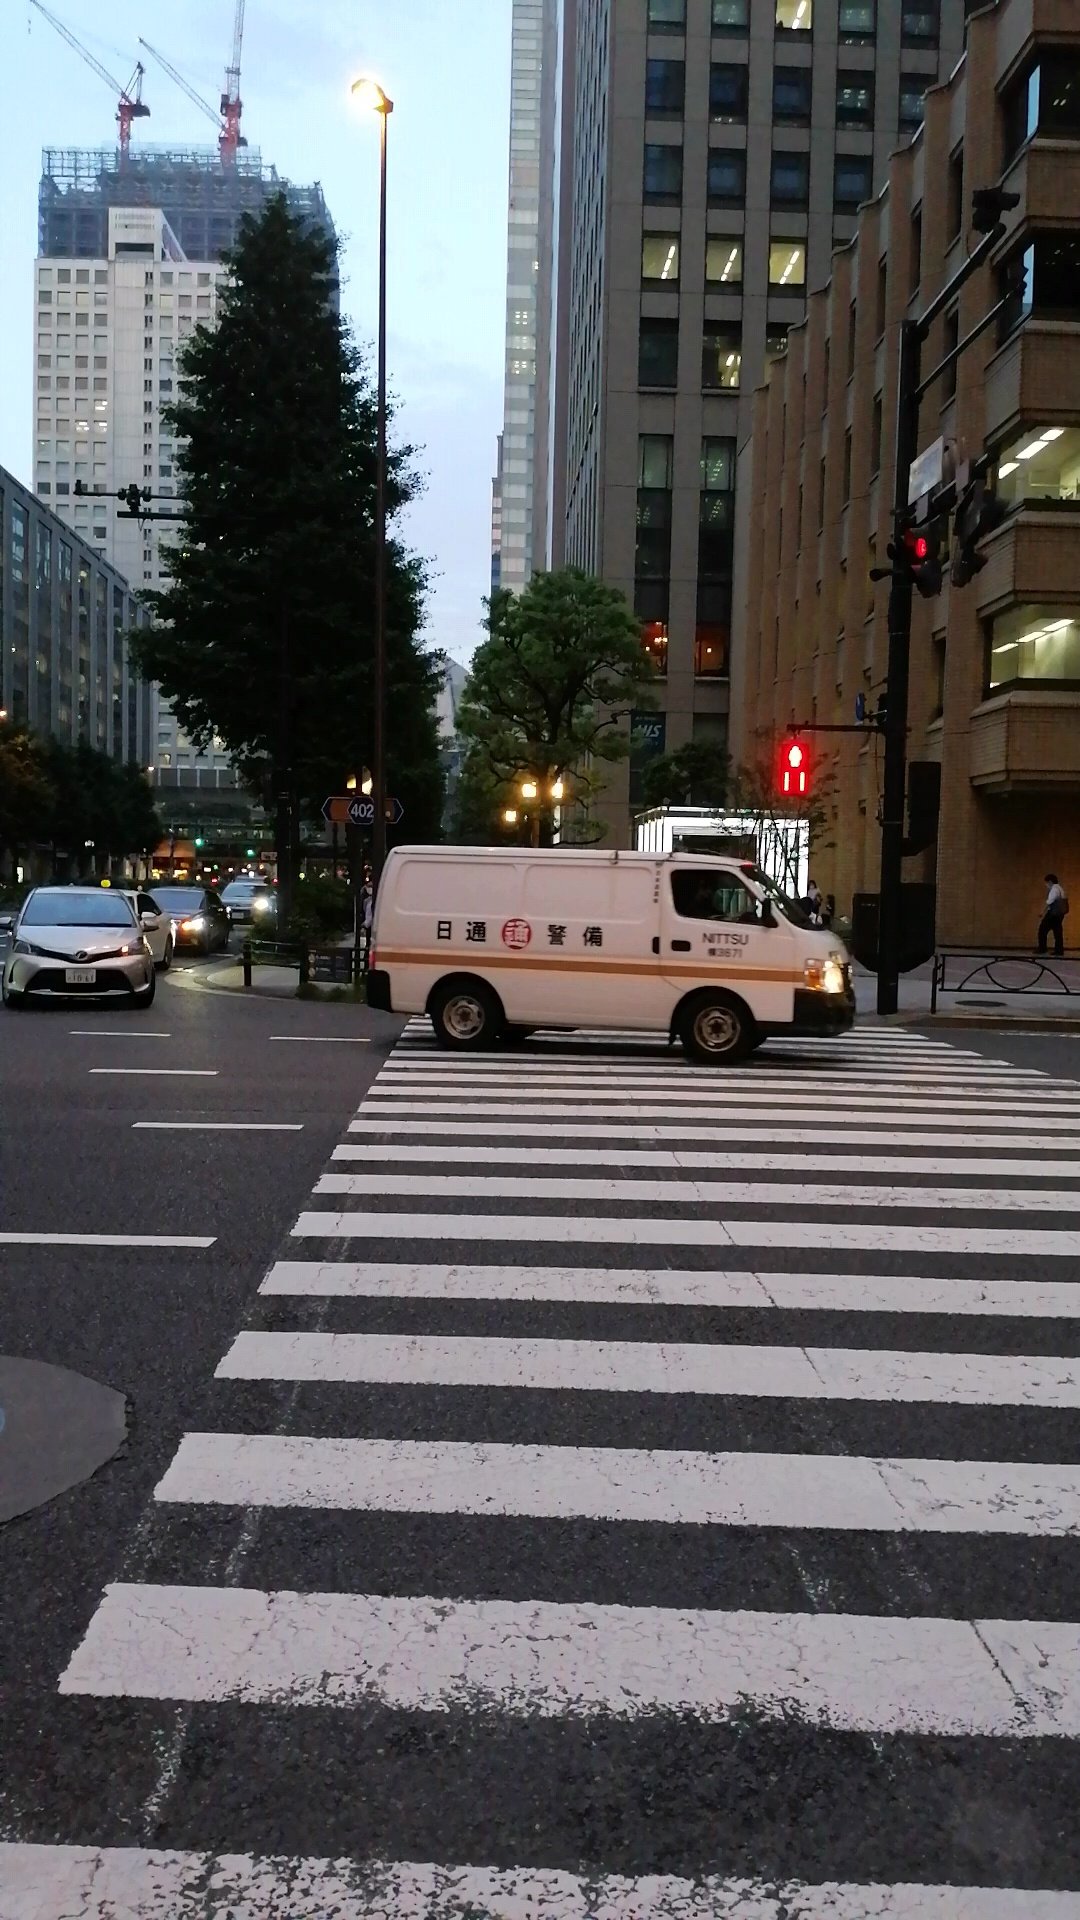red: (777, 738, 812, 796)
